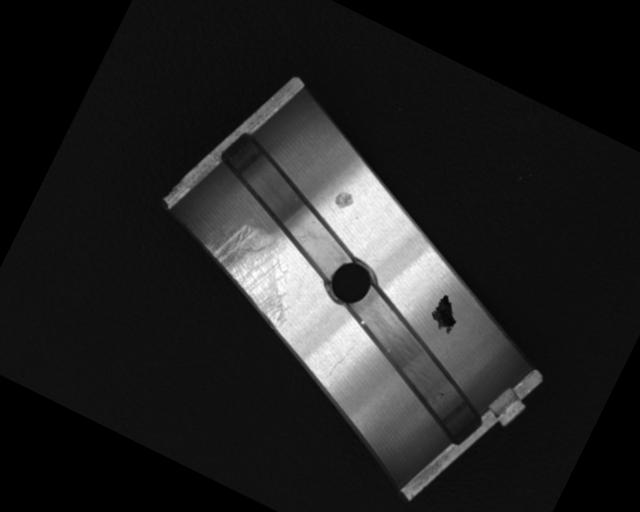blot: (424, 292, 466, 337)
bruise: (330, 187, 356, 214)
gap: (312, 278, 514, 446), (189, 126, 380, 286)
hole: (318, 249, 384, 318)
nick: (322, 339, 357, 386)
scratch: (184, 207, 318, 331)
